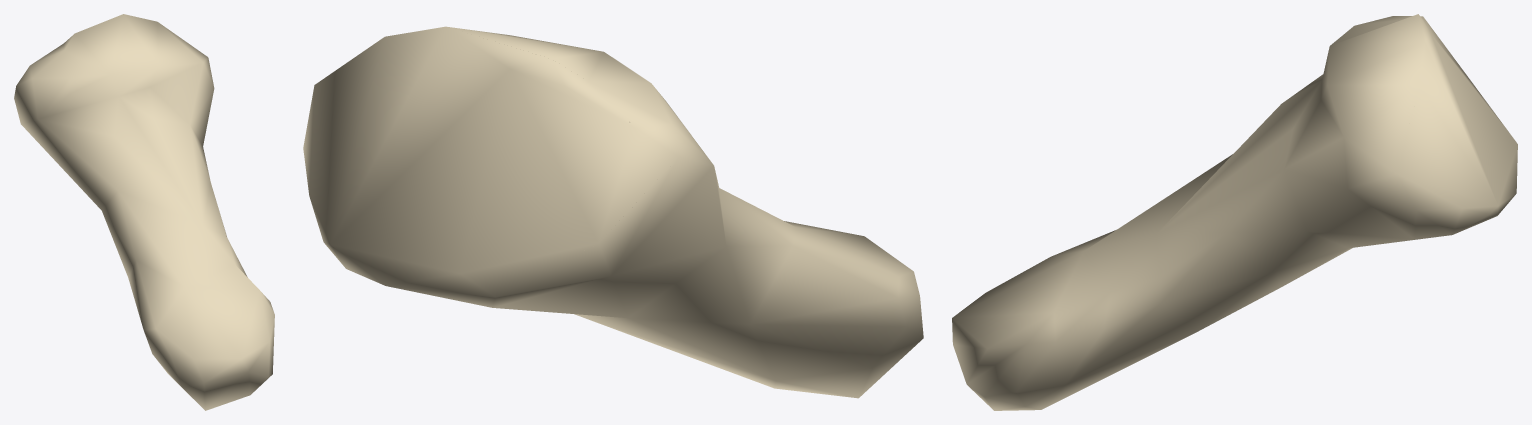
Rendered from esqueleto-distal-phalanx-of-third-finger-of-hand-r.glb.
3 views of the same model, side by side, from view 1: azimuth 30°, elevation 25°; view 2: azimuth 150°, elevation 25°; view 3: azimuth 270°, elevation 25° (orthographic). The views are drawn at different scales.
Parts seen in each view (by area): view 1: Distal phalanx of third finger of hand.r; view 2: Distal phalanx of third finger of hand.r; view 3: Distal phalanx of third finger of hand.r.
Boxes of the visible parts, box(x1,y1,x2,y2) form: Distal phalanx of third finger of hand.r: box(14, 14, 274, 410); Distal phalanx of third finger of hand.r: box(303, 26, 923, 398); Distal phalanx of third finger of hand.r: box(952, 14, 1517, 410).
Bounding box in the file's own units: 0.00986 × 0.0139 × 0.0179.
